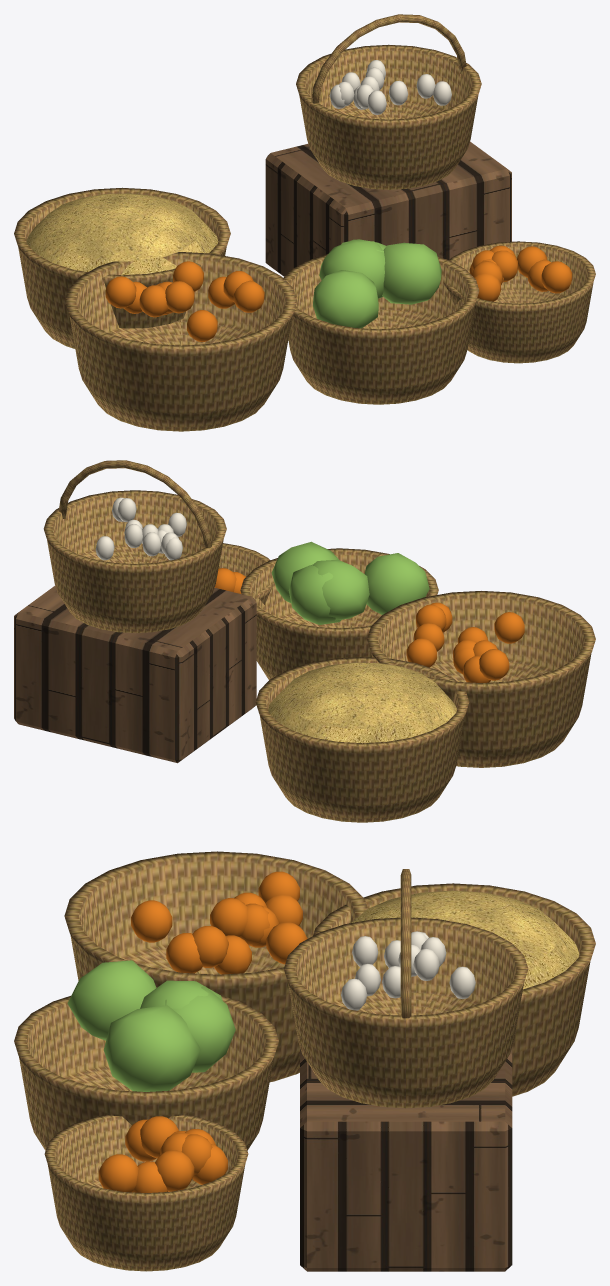
The model's file is goods_baskets.glb.
3 renders of one model, top to bottom at view 1: azimuth 30°, elevation 25°; view 2: azimuth 150°, elevation 25°; view 3: azimuth 270°, elevation 25°, orthographic. The views are drawn at different scales.
Parts seen in each view (by area): view 1: Baskets, Crate, Grain, Oranges, Cabbages, Eggs; view 2: Baskets, Crate, Grain, Cabbages, Oranges, Eggs; view 3: Baskets, Crate, Oranges, Cabbages, Grain, Eggs.
Boxes of the visible parts, box(x1,y1,x2,y2) form: Baskets: box(14, 14, 595, 431); Crate: box(265, 141, 511, 276); Grain: box(26, 193, 218, 275); Oranges: box(105, 245, 572, 341); Cabbages: box(313, 239, 441, 328); Eggs: box(329, 60, 451, 114); Baskets: box(43, 460, 595, 822); Crate: box(14, 586, 256, 763); Grain: box(268, 662, 456, 743); Cabbages: box(271, 541, 429, 624); Oranges: box(214, 568, 524, 682); Eggs: box(95, 497, 186, 560); Baskets: box(14, 851, 595, 1271); Crate: box(300, 1047, 512, 1271); Oranges: box(98, 871, 307, 1192); Cabbages: box(67, 960, 235, 1091); Grain: box(351, 890, 579, 989); Eggs: box(341, 931, 475, 1010).
Size of what is drawn, in the model's own units: 1.54 by 0.7894 by 1.23.
6 materials, 3 textured.
